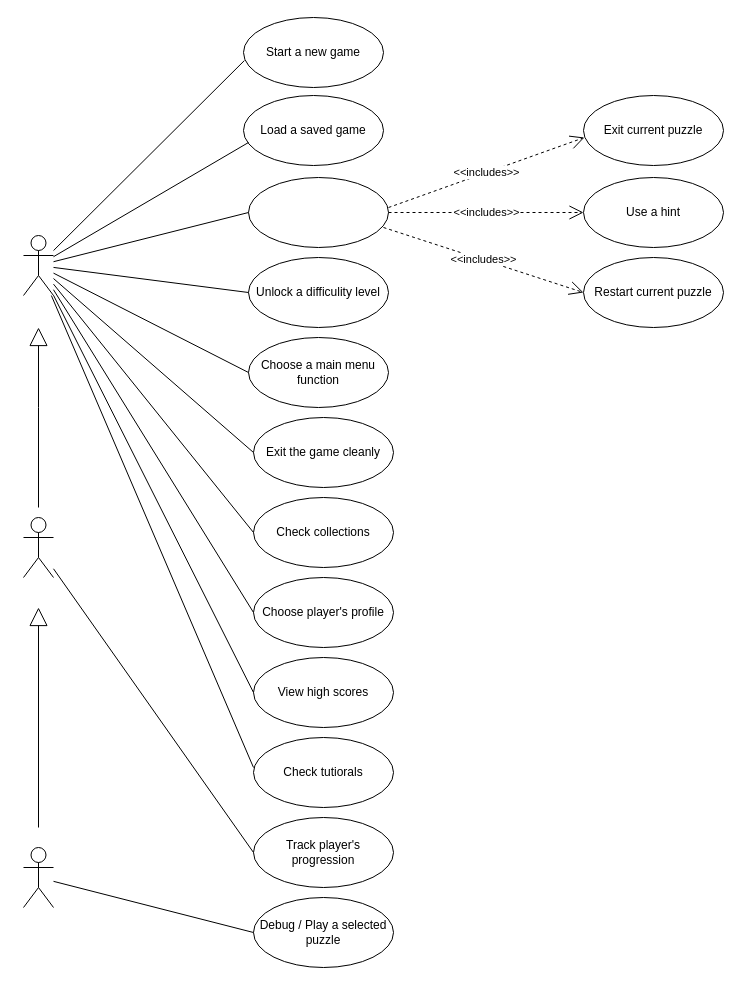
This 741x985 diagram has some shape labels left out. Each missing label, with the box of its shape:
Player: (22, 234, 54, 296)
Solve a puzzle: (248, 176, 388, 248)
Teacher: (22, 516, 54, 578)
Tester: (22, 846, 54, 908)
